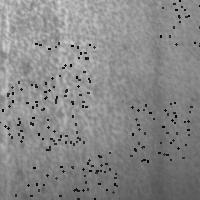pitted_surface: (3, 1, 138, 185), (26, 89, 85, 149), (130, 102, 190, 160), (35, 42, 93, 94), (59, 152, 117, 200), (0, 81, 35, 140), (160, 0, 200, 45), (14, 167, 65, 200)
